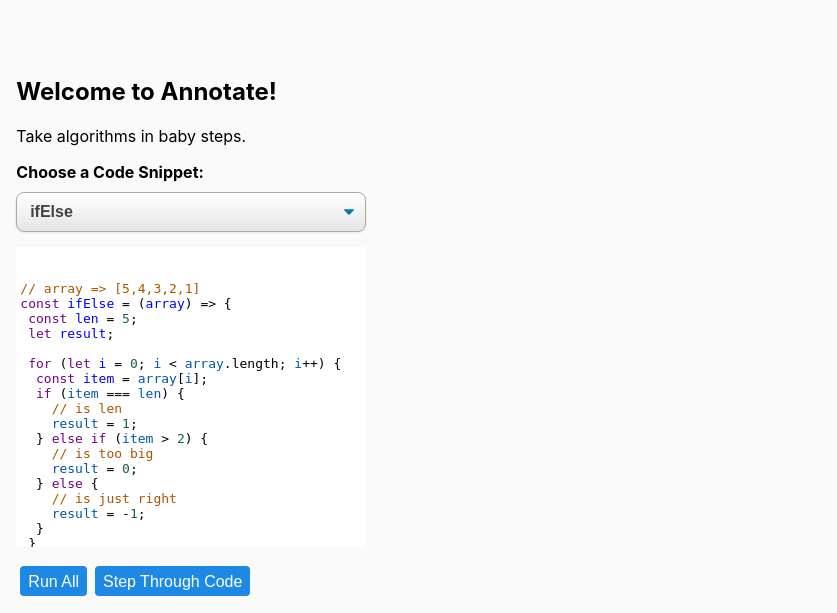
Test: <App /> › when running all code › should render all logs at once
Click the button "Run All" at (54,581), box x1=20 y1=566 x2=87 y2=596
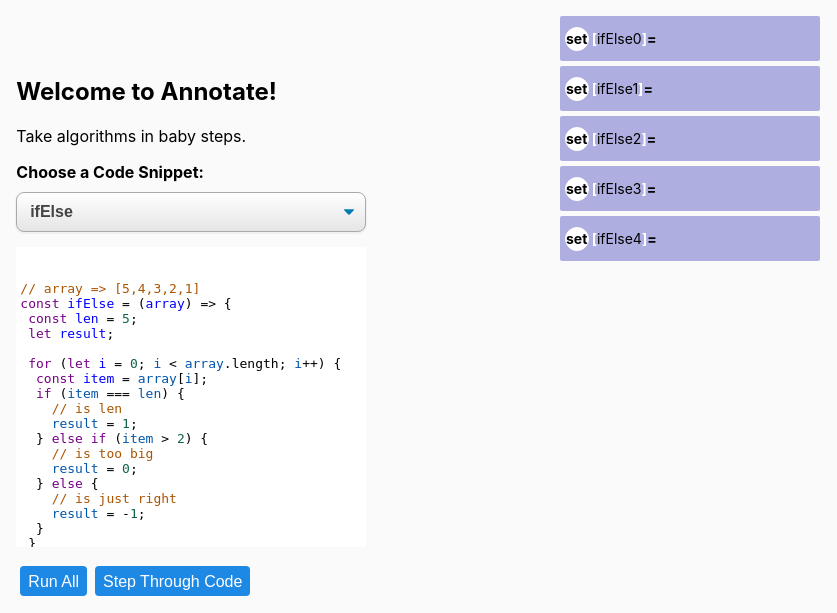
Expected: the number of elements with test id "log-line" is 5, x1=560 y1=16 x2=820 y2=61; x1=560 y1=66 x2=820 y2=111; x1=560 y1=116 x2=820 y2=161; x1=560 y1=166 x2=820 y2=211; x1=560 y1=216 x2=820 y2=261
Expected: the text "[ifElse4]" is shown, x1=592 y1=230 x2=647 y2=247
